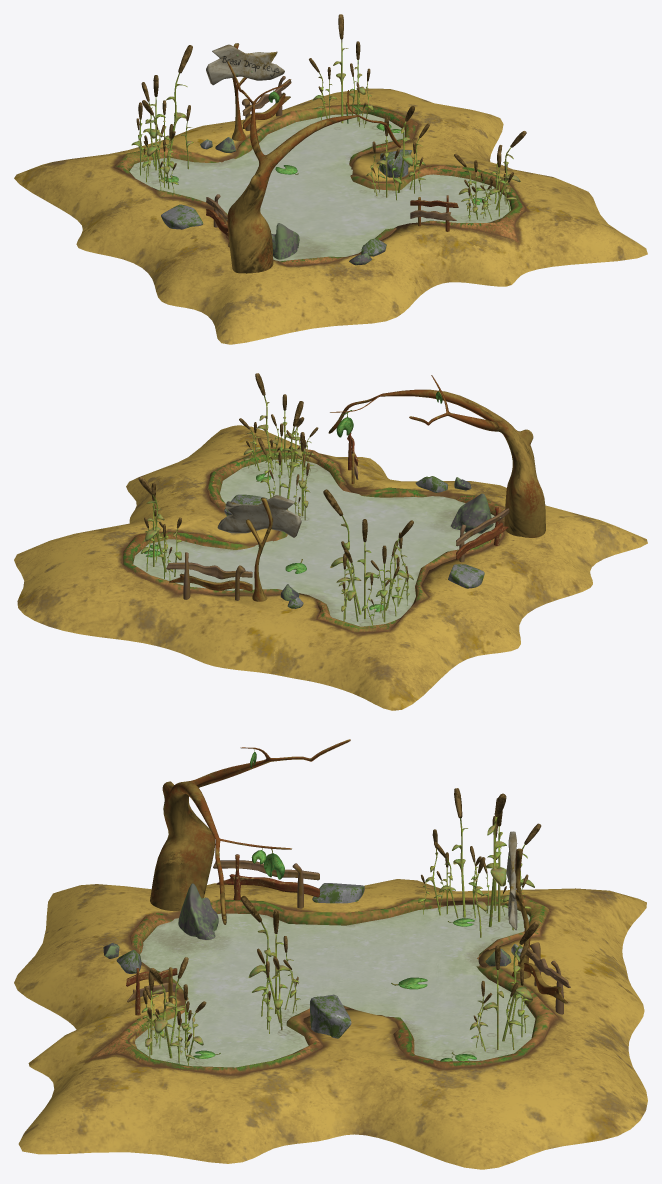
Rendered from Pond.fbx.
3 renders of one model, top to bottom at view 1: azimuth 30°, elevation 25°; view 2: azimuth 150°, elevation 25°; view 3: azimuth 270°, elevation 25°, orthographic. The views are drawn at different scales.
Parts seen in each view (by area): view 1: PondGroundL, WaterL, WoodStoneL, VegetationL; view 2: PondGroundL, WaterL, WoodStoneL, VegetationL; view 3: PondGroundL, WaterL, WoodStoneL, VegetationL.
Part boxes in pixels (bbox=[...]): PondGroundL: bbox=[14, 88, 647, 344]; WaterL: bbox=[129, 113, 510, 261]; WoodStoneL: bbox=[161, 43, 458, 273]; VegetationL: bbox=[131, 14, 526, 220]; PondGroundL: bbox=[14, 425, 647, 710]; WaterL: bbox=[133, 459, 495, 626]; WoodStoneL: bbox=[166, 375, 545, 608]; VegetationL: bbox=[138, 373, 442, 625]; PondGroundL: bbox=[14, 879, 647, 1169]; WaterL: bbox=[135, 904, 535, 1067]; WoodStoneL: bbox=[103, 739, 570, 1038]; VegetationL: bbox=[141, 749, 541, 1065].
Bounding box in the file's own units: 698 × 279 × 655.
